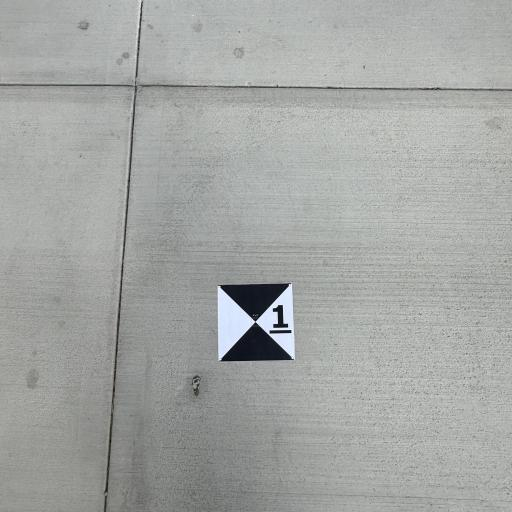target1: (214, 278, 301, 367)
